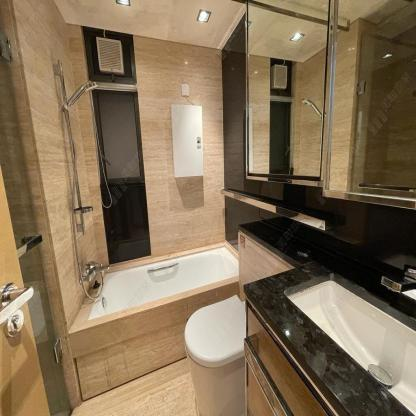Bathtub: (68, 241, 239, 402)
Exhaust Fan: (94, 37, 124, 73)
Toilet: (182, 295, 246, 415)
Toilet Sink: (243, 259, 416, 415)
Water Heater: (171, 103, 203, 178)
